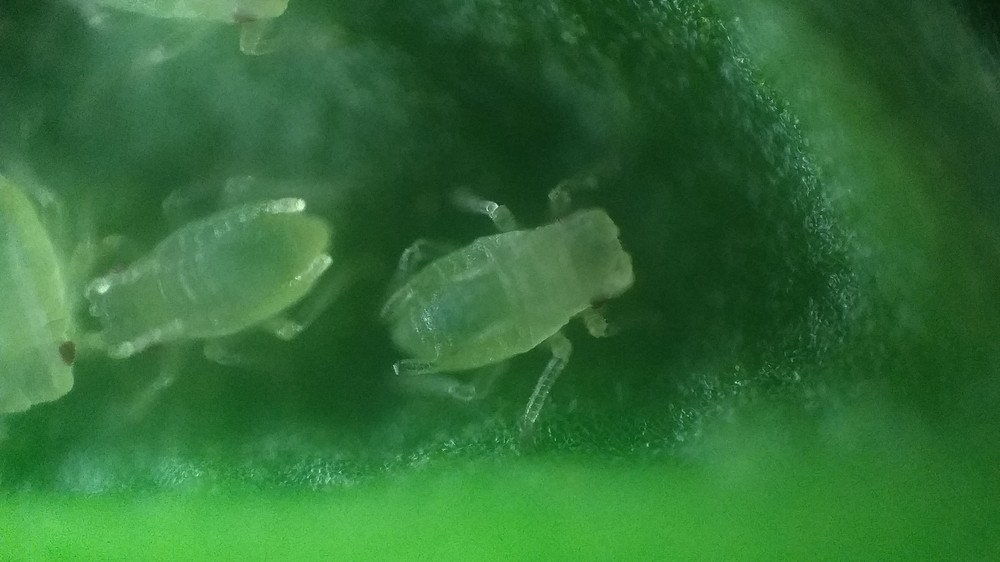Pulgon: (369, 160, 682, 433), (69, 169, 378, 394), (1, 142, 101, 424)
